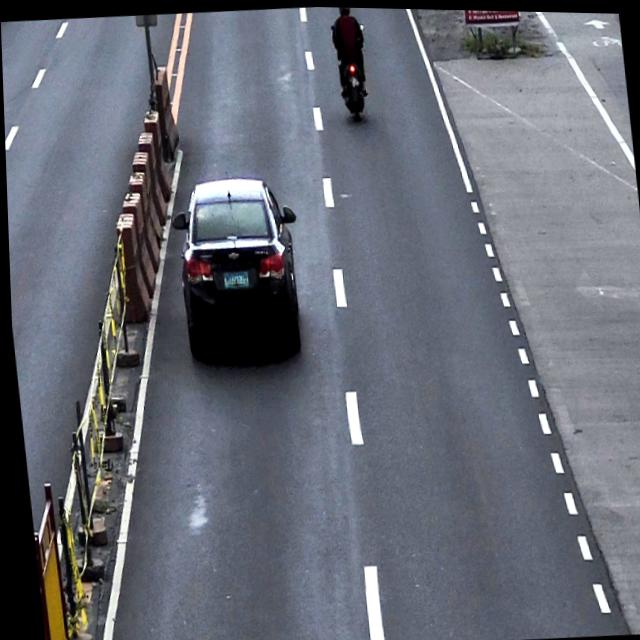Car: (164, 168, 308, 361)
License-Plate: (220, 267, 248, 289)
Motorcycle: (328, 19, 372, 118)
